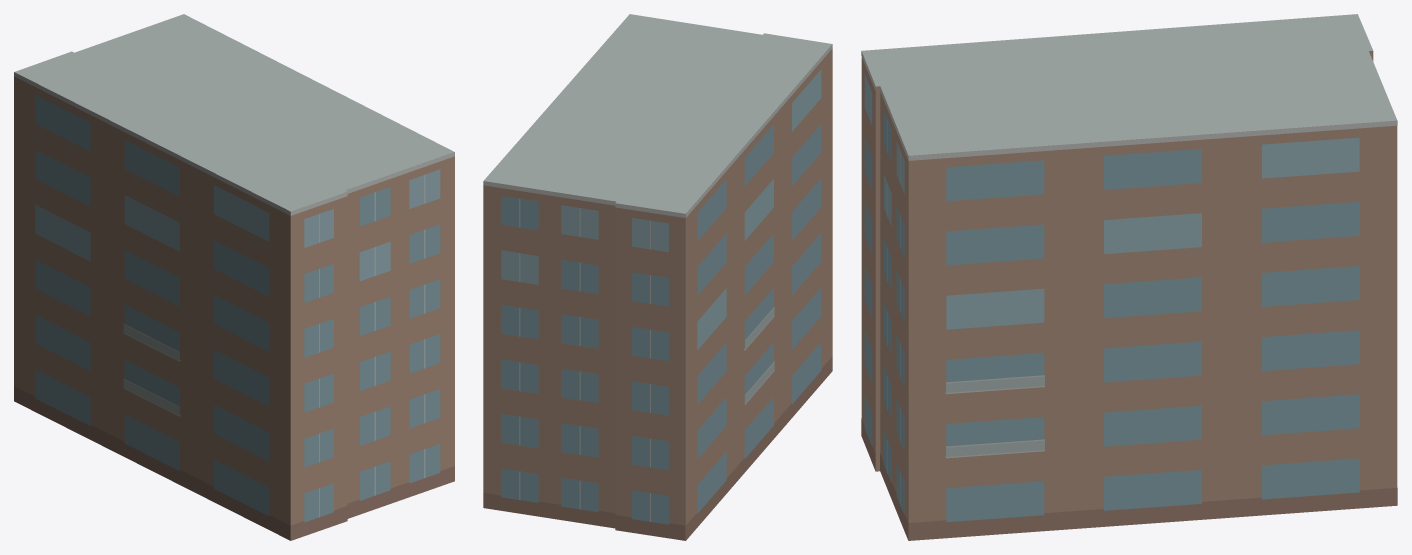
Rendered from survey-upis-32618751.glb.
3 views of the same model, side by side, from view 1: azimuth 30°, elevation 25°; view 2: azimuth 150°, elevation 25°; view 3: azimuth 270°, elevation 25° (orthographic). The views are drawn at different scales.
Visible parts, largest first — view 1: survey-upis-32618751.tmp; view 2: survey-upis-32618751.tmp; view 3: survey-upis-32618751.tmp.
Part boxes in pixels (bbox=[...]): survey-upis-32618751.tmp: bbox=[14, 14, 454, 540]; survey-upis-32618751.tmp: bbox=[483, 14, 832, 540]; survey-upis-32618751.tmp: bbox=[861, 14, 1397, 540].
Size of the model in its own units: 14.7 by 18.6 by 23.48.
